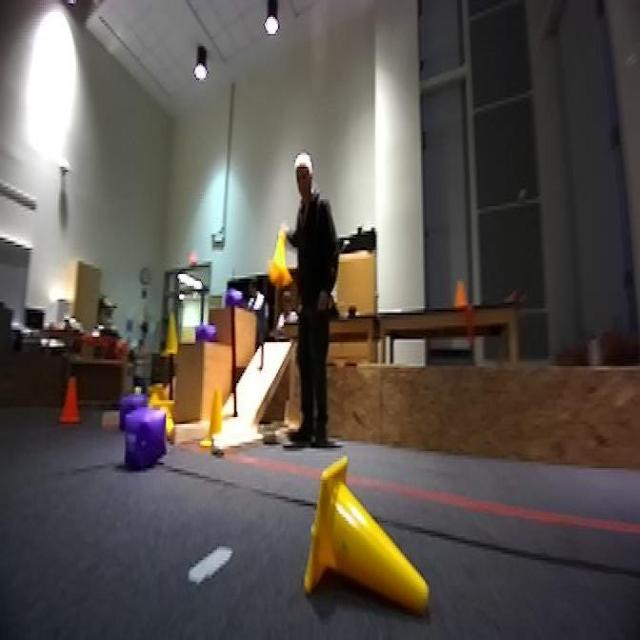frc_cone: (299, 462, 433, 598), (266, 223, 296, 291), (200, 386, 225, 448), (155, 305, 182, 361), (157, 396, 178, 436), (145, 379, 170, 402)
frc_cube: (124, 410, 166, 473), (192, 318, 220, 339), (116, 393, 146, 412), (221, 288, 243, 310)
